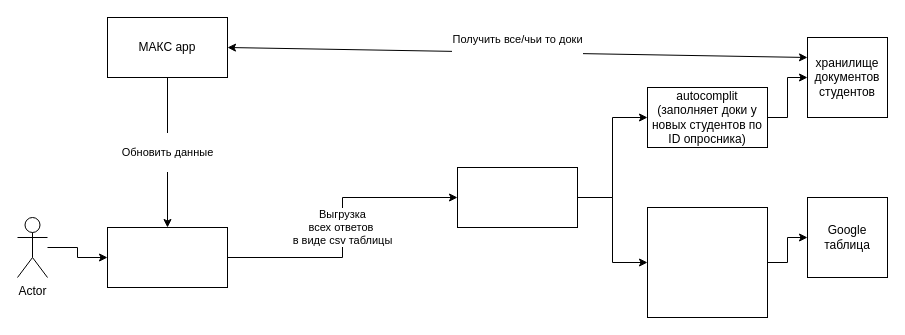
Image size: 905x335. Some labels were removed from this diagram. The shapes that lost their labels are listed below. From the top down, each one's box as (x1, y1, x2, y2) in pixels, then its label:
(456, 166, 578, 228): data_process (чтение csv и mapping)
(106, 226, 228, 288): Yandex Form
(646, 206, 768, 318): Отправка на google sheet новых по ID ответа У всех новых строк status = NEW
